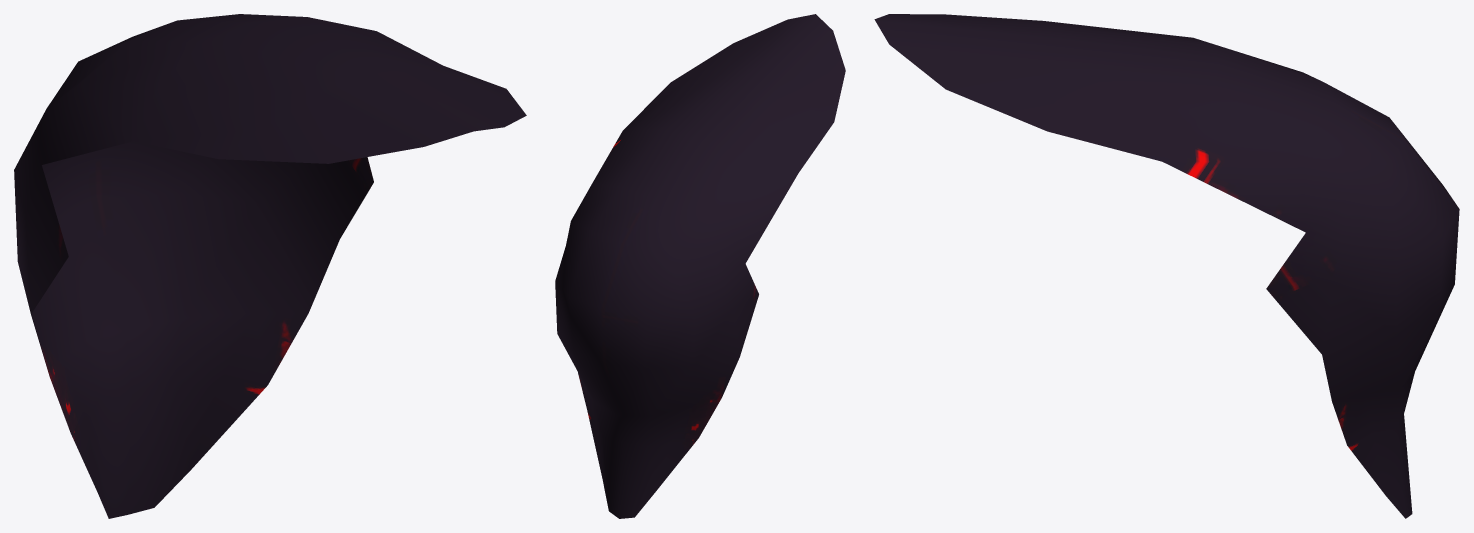
The model's file is projectMaskFX.fbx.
3 renders of one model, left to right at view 1: azimuth 30°, elevation 25°; view 2: azimuth 150°, elevation 25°; view 3: azimuth 270°, elevation 25°, orthographic. The views are drawn at different scales.
Parts seen in each view (by area): view 1: project_mask; view 2: project_mask; view 3: project_mask.
Boxes of the visible parts, x1,y1,x2,y2 form: project_mask: [14, 14, 526, 518]; project_mask: [555, 14, 845, 518]; project_mask: [874, 14, 1459, 518].
Size of the model in its own units: 13.34 by 26.22 by 28.11.
